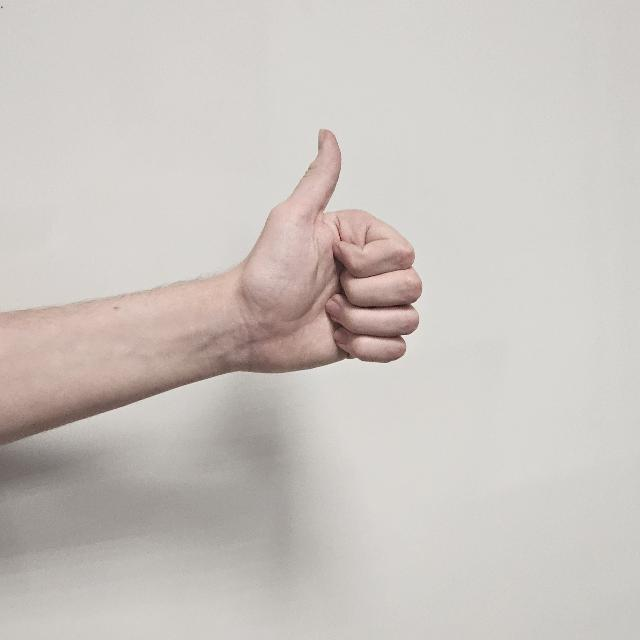Start: (242, 126, 424, 390)
